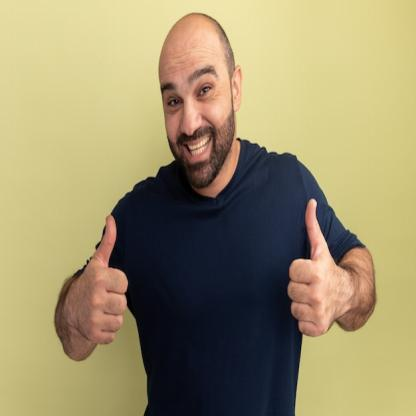thumb_up: (65, 210, 131, 348), (286, 192, 346, 340)
